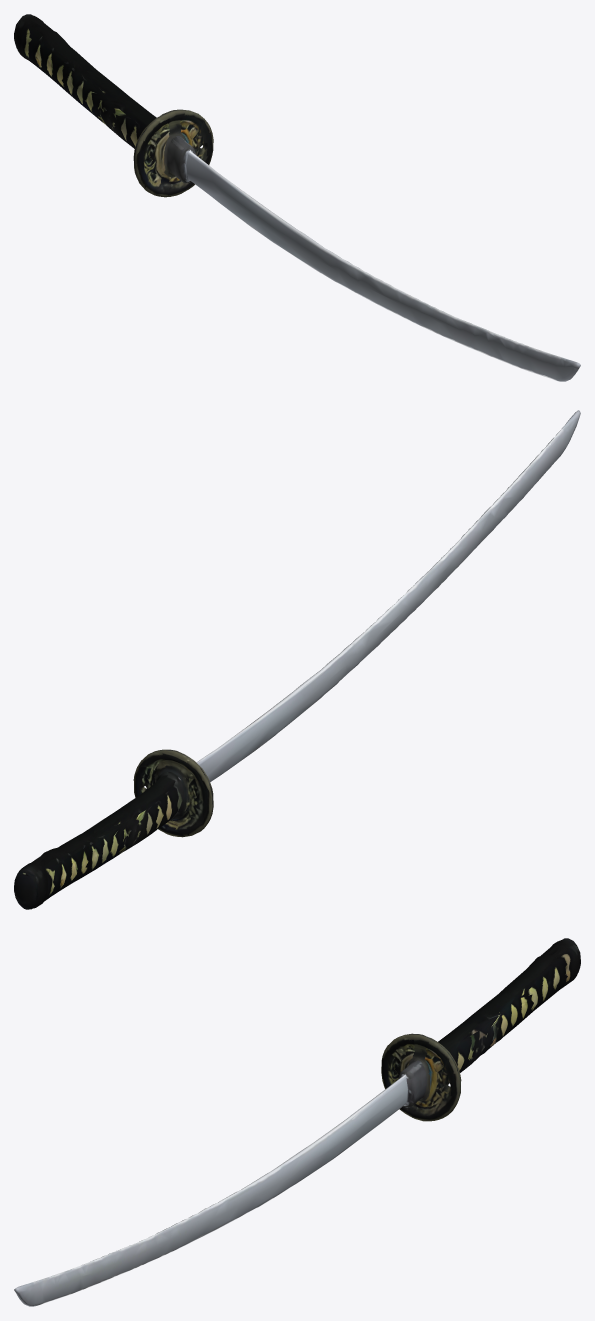
The model's file is risingsunnsword.fbx.
3 views of the same model, one above another, from view 1: azimuth 30°, elevation 25°; view 2: azimuth 150°, elevation 25°; view 3: azimuth 330°, elevation 25° (orthographic).
Parts seen in each view (by area): view 1: meshes[0]; view 2: meshes[0]; view 3: meshes[0].
Part boxes in pixels (x1=…): meshes[0]: x1=14, y1=14, x2=580, y2=381; meshes[0]: x1=14, y1=410, x2=580, y2=909; meshes[0]: x1=14, y1=938, x2=580, y2=1306.
Size of the model in its own units: 5.04 by 7.91 by 61.83.
1 material, 1 textured.
